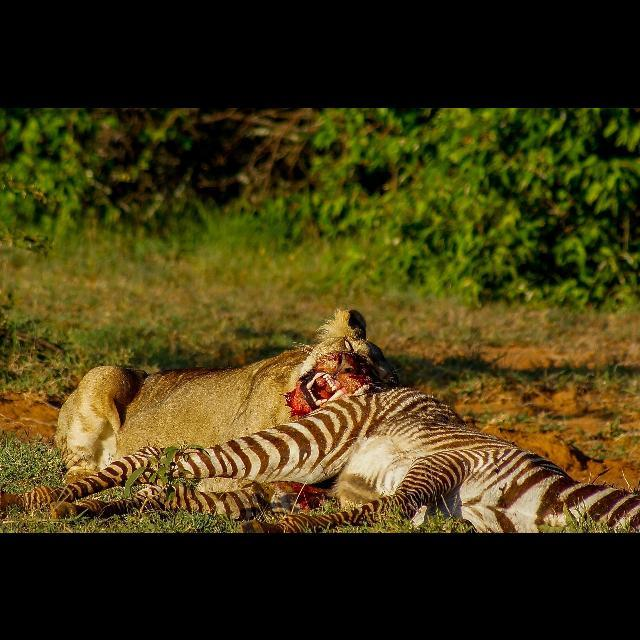blood: (304, 351, 372, 393), (280, 478, 335, 511), (286, 380, 313, 415), (310, 376, 333, 399)
